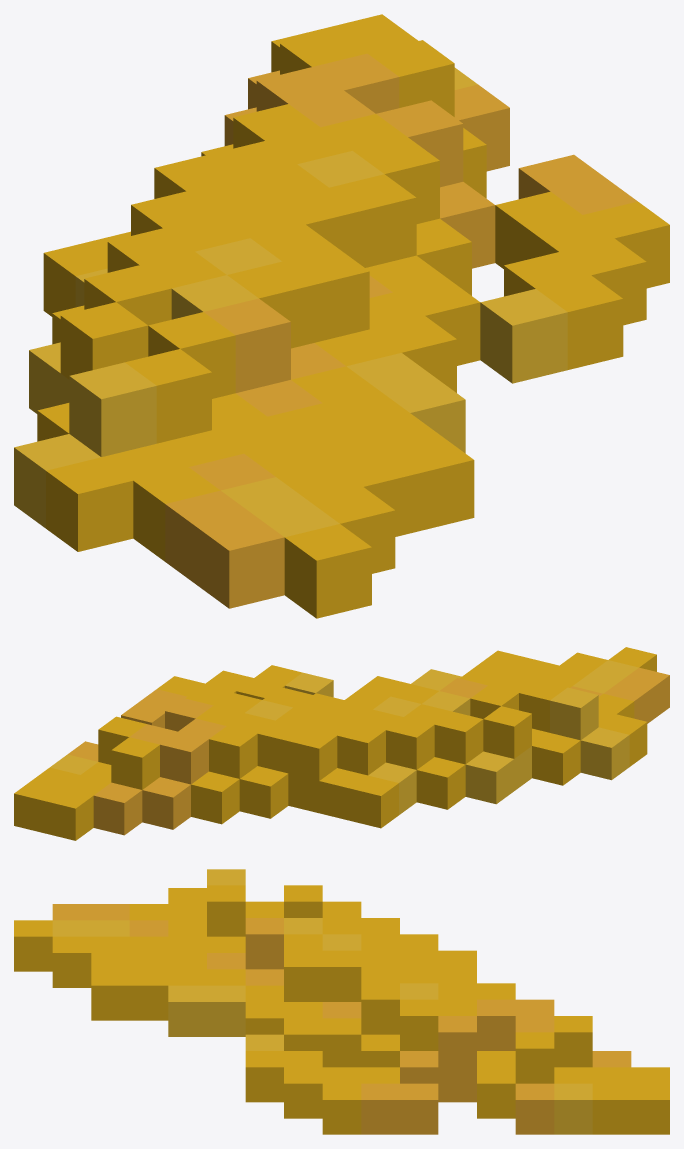
Rendered from grass_patches-11.obj.
3 views of the same model, one above another, from view 1: azimuth 30°, elevation 25°; view 2: azimuth 150°, elevation 25°; view 3: azimuth 270°, elevation 25° (orthographic). The views are drawn at different scales.
Bounding box in the file's own units: 1.3 × 0.2 × 1.7.
1 material, 1 textured.
